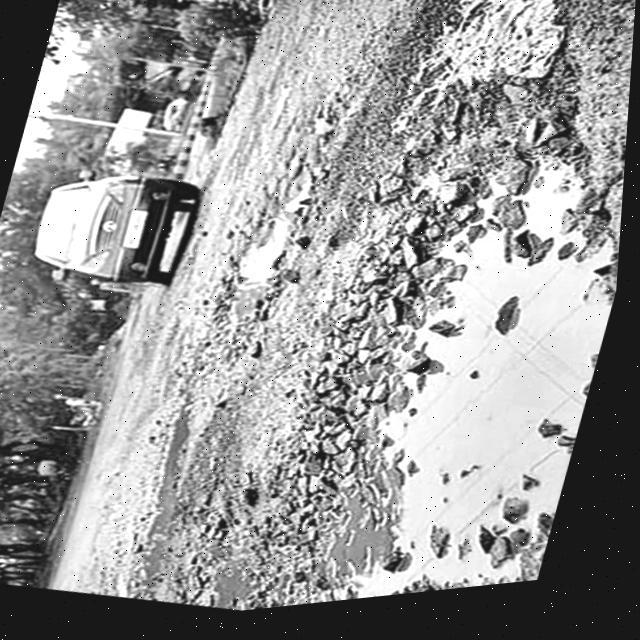pothole: (294, 148, 630, 614), (115, 397, 232, 612), (214, 157, 338, 340), (200, 516, 298, 621)
